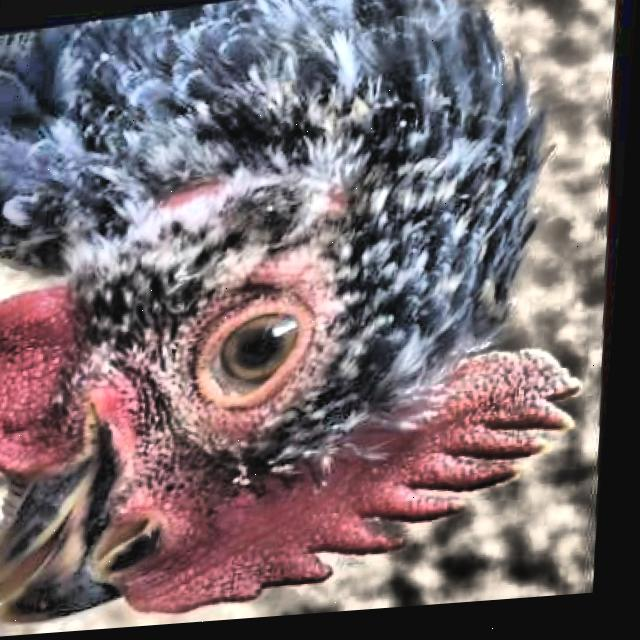Healthy: (179, 271, 337, 436)
